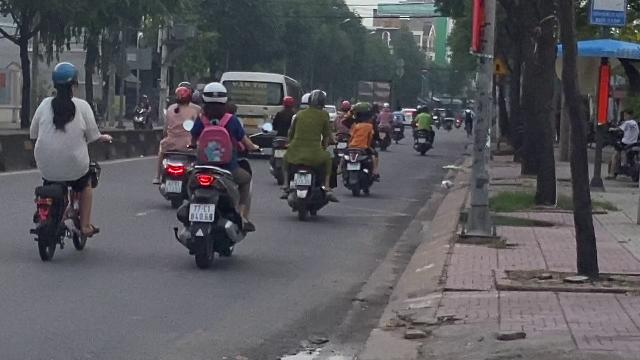helmet: (49, 62, 79, 94), (201, 82, 229, 108), (302, 89, 326, 107), (173, 84, 193, 105), (300, 90, 316, 108)
licenseplate: (190, 204, 214, 222), (294, 173, 310, 185), (165, 181, 181, 192)
motorcyclist: (24, 60, 106, 264), (174, 80, 256, 268), (278, 88, 338, 220), (151, 82, 201, 210)
